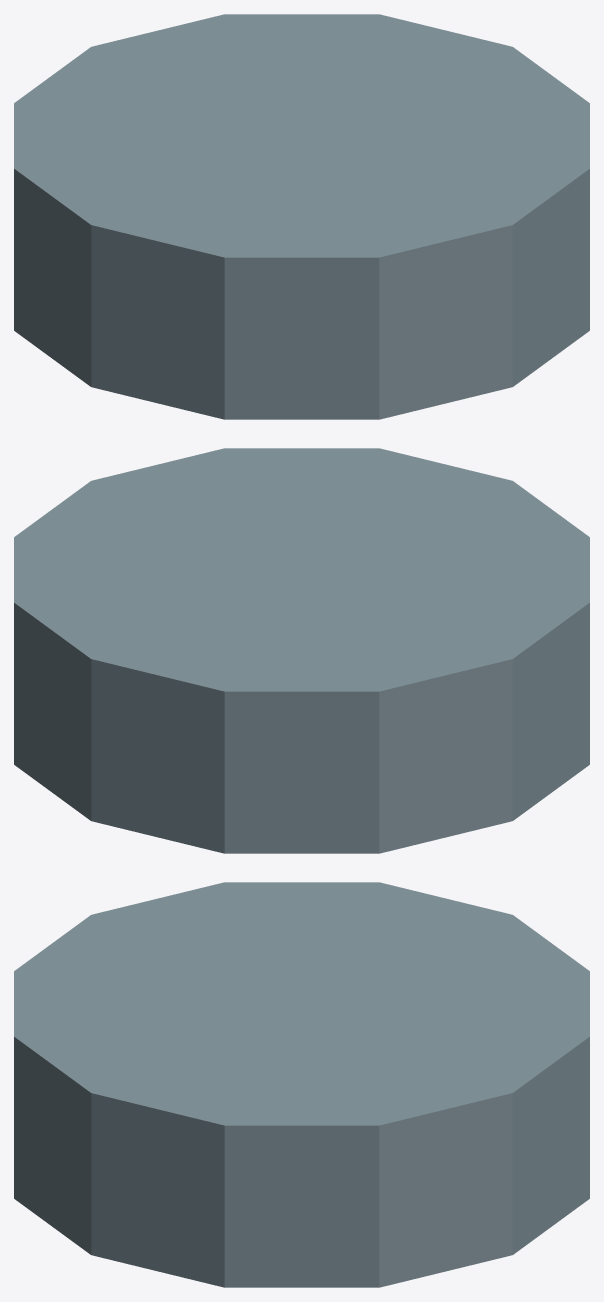
Rendered from City_Bollard_Base.glb.
3 renders of one model, top to bottom at view 1: azimuth 30°, elevation 25°; view 2: azimuth 150°, elevation 25°; view 3: azimuth 270°, elevation 25°, orthographic.
Visible parts, largest first — view 1: City_Bollard_Base; view 2: City_Bollard_Base; view 3: City_Bollard_Base.
Boxes of the visible parts, <box> form: City_Bollard_Base: <box>14,14,589,419</box>; City_Bollard_Base: <box>14,448,589,853</box>; City_Bollard_Base: <box>14,882,589,1287</box>.
Bounding box in the file's own units: 0.3864 × 0.12 × 0.3864.
